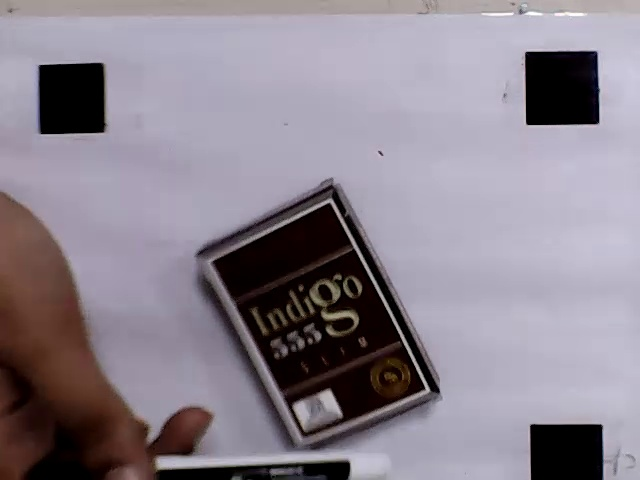BEX: (208, 200, 428, 444)
